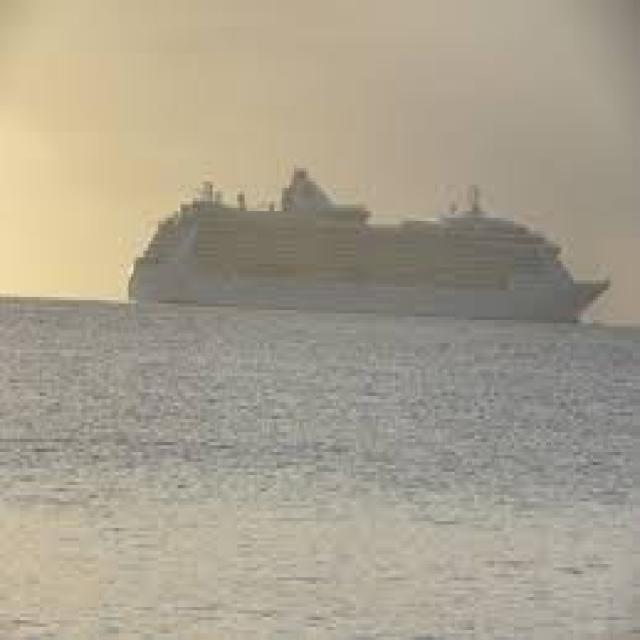passenger ship: (127, 156, 599, 318)
